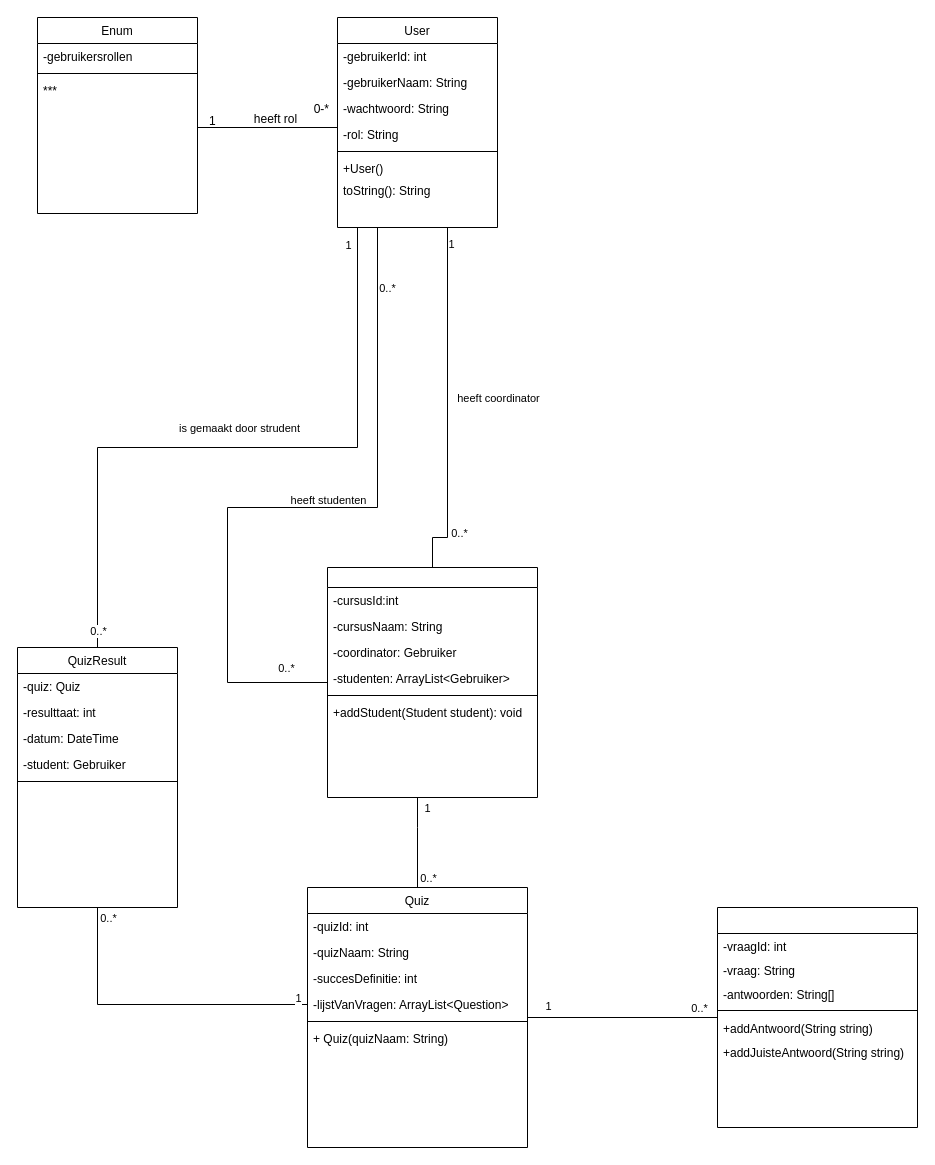
This 935x1165 diagram has some shape labels left out. The box of each missing label's shape, as (x1, y1, x2, y2) in pixels:
Course: (326, 566, 538, 798)
Question: (716, 906, 918, 1128)
